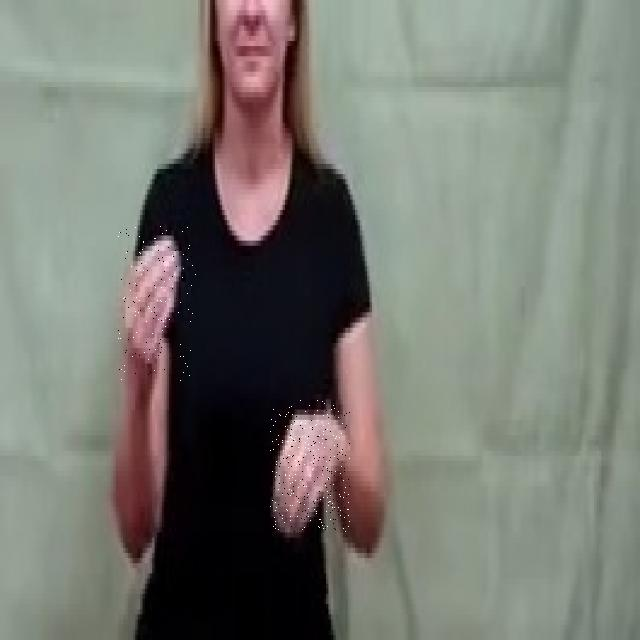ingredients: (118, 225, 196, 382), (270, 400, 350, 532)
